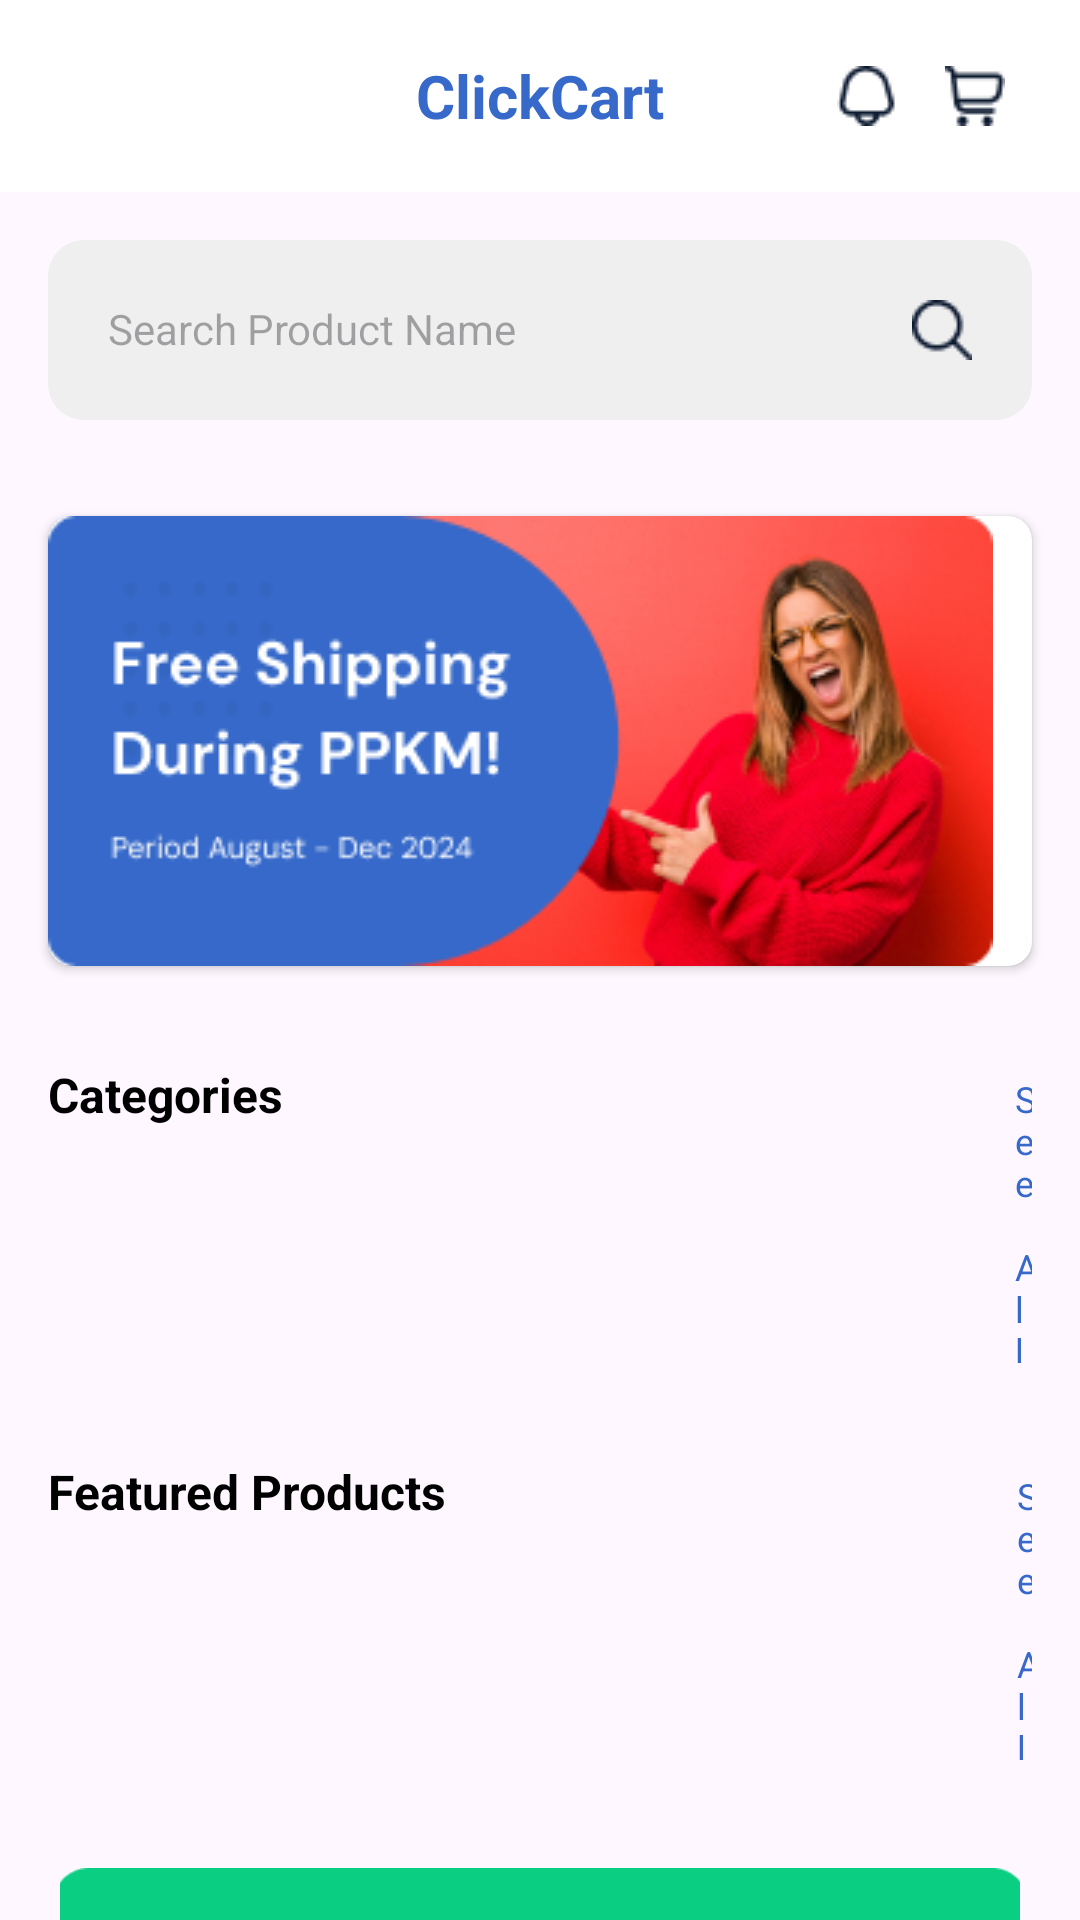

Icon bounding boxes for this 1080px x 1920px phone screenshot, format (x1, y1, x2, y2):
Cart: (945, 66, 1005, 126)
Notification: (837, 66, 895, 126)
